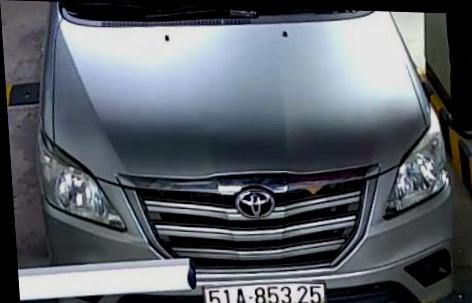License_Plate: (202, 269, 339, 303)
